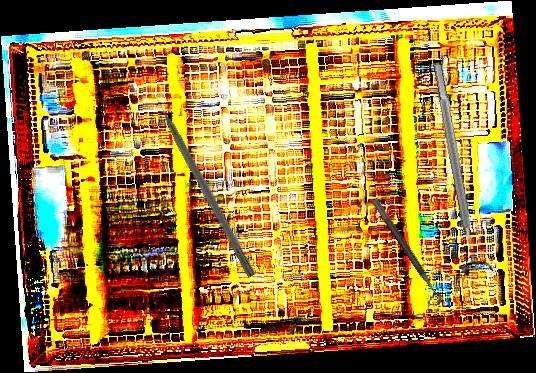Fixation Ring: (421, 59, 495, 278), (362, 197, 445, 311)
Pusher: (147, 85, 259, 279)
